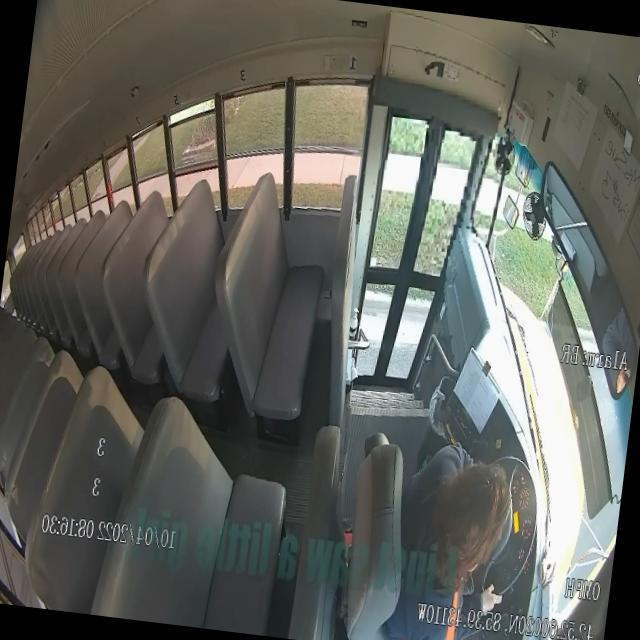bus-door: (356, 114, 481, 385)
